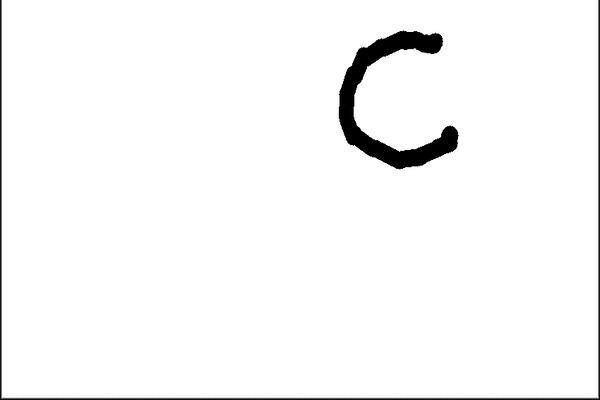C: (333, 24, 461, 171)
